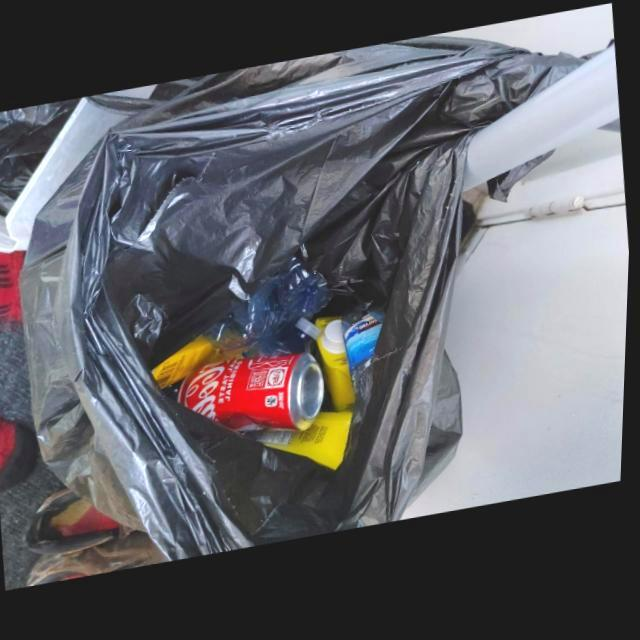aluminum: (181, 356, 327, 435)
plastic_bottle: (205, 283, 300, 353), (281, 261, 335, 319)
